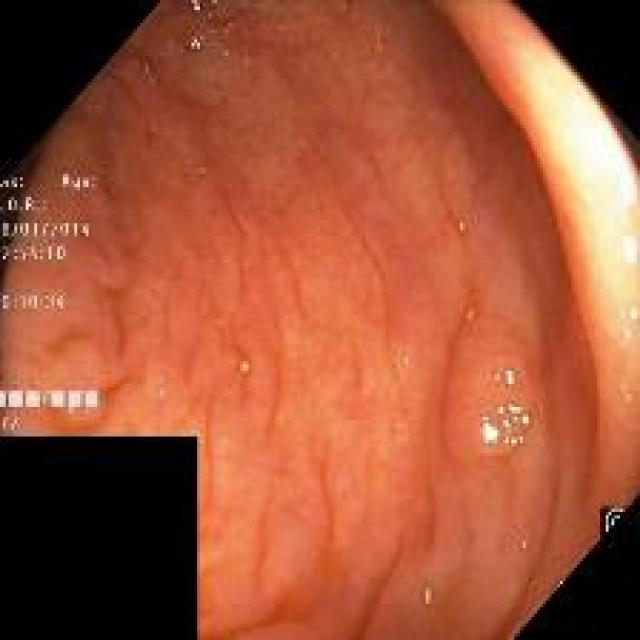Polyps: (446, 316, 544, 462)
